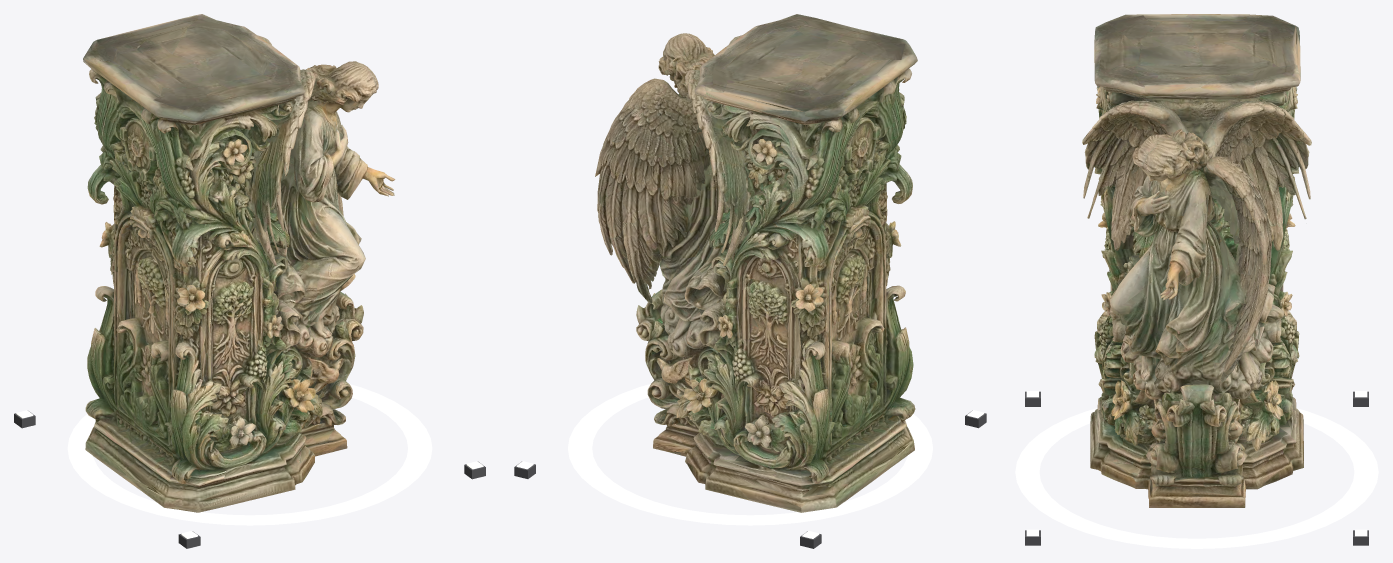
File: angel-hq.glb
The picture shows the model from 3 angles, left to right: view 1: azimuth 30°, elevation 25°; view 2: azimuth 150°, elevation 25°; view 3: azimuth 270°, elevation 25°; orthographic projection.
Visible parts, largest first — view 1: Statue, Uplight; view 2: Statue, Uplight; view 3: Statue, Uplight.
Part boxes in pixels (x1,y1,x2,y2): Statue: (83,14,395,512); Uplight: (14,384,485,548); Statue: (595,14,917,512); Uplight: (514,384,986,548); Statue: (1082,14,1311,507); Uplight: (1015,391,1378,548).
Size of the model in its own units: 8.25 by 10 by 8.25.
3 materials, 1 textured.
